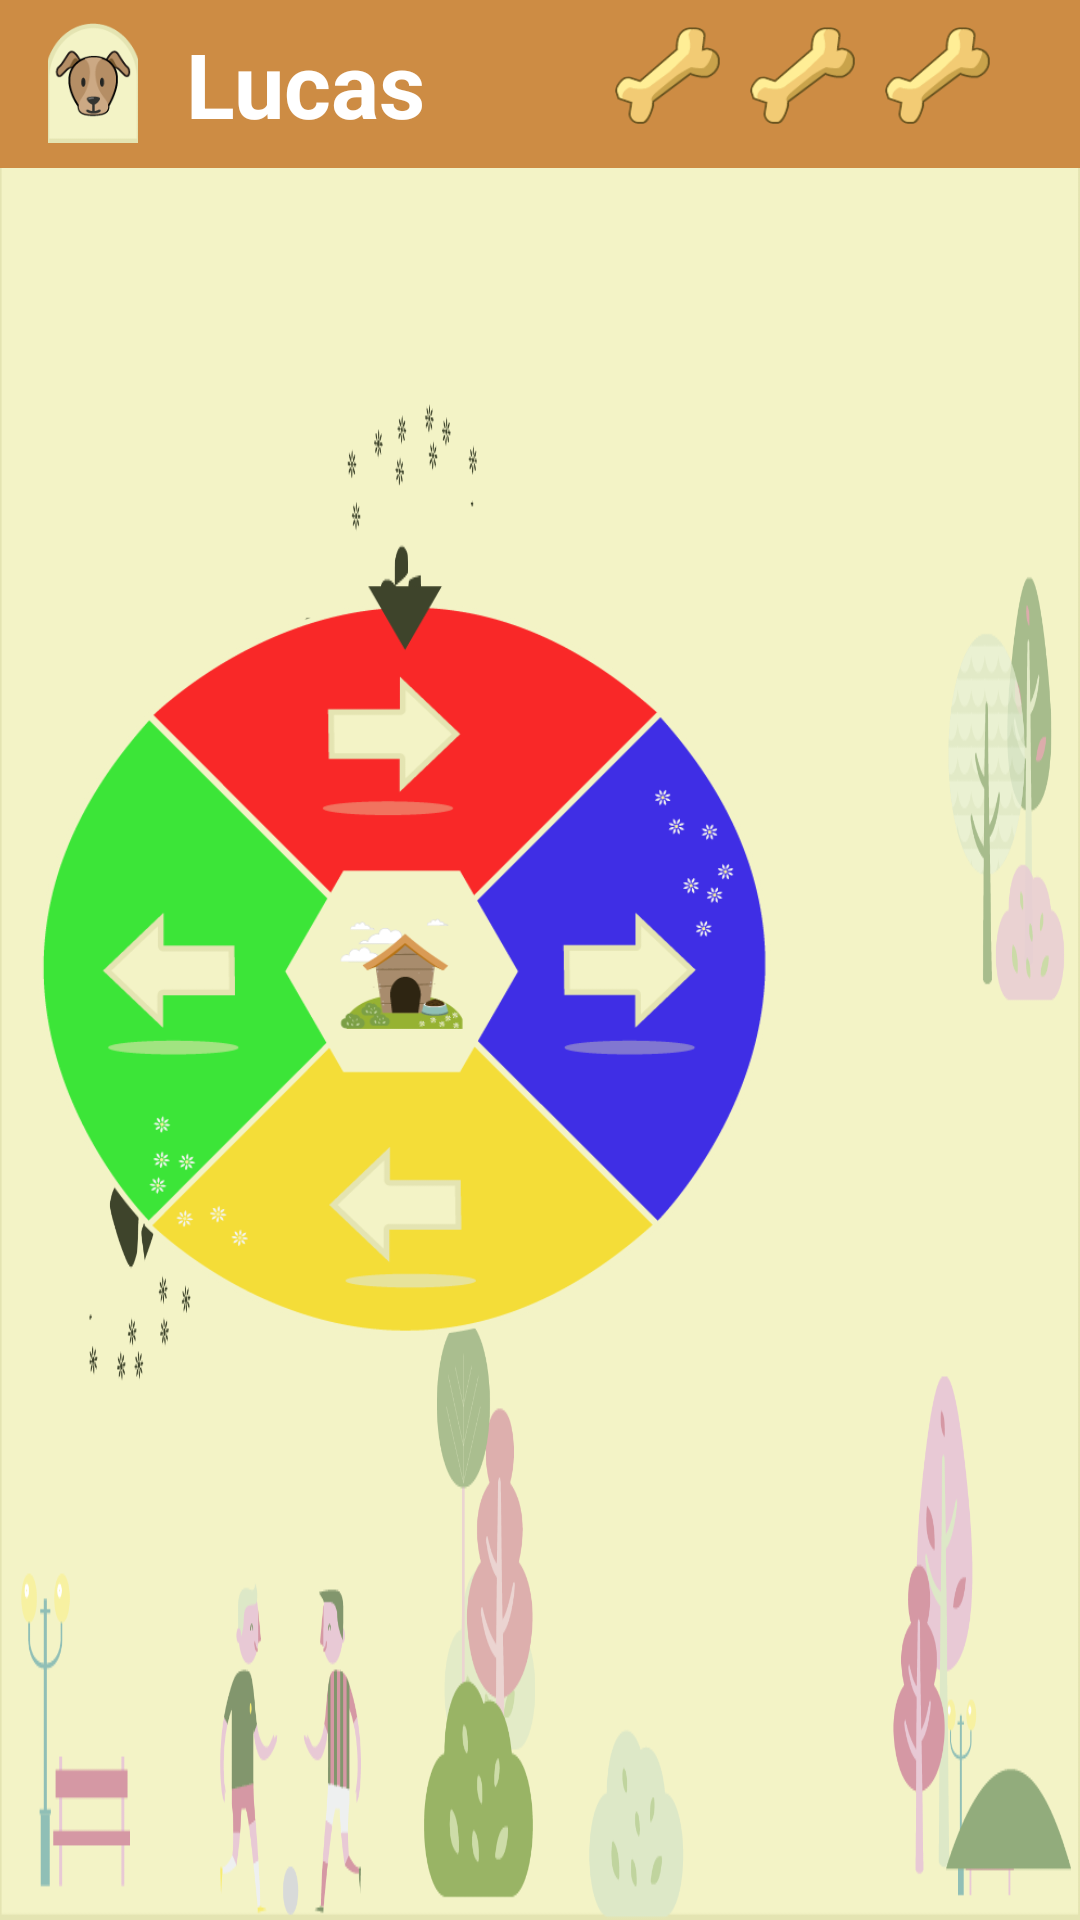

Icons on this 1080w x 1920h Android screen, each with its box as region(x1, y1, x2, y2):
hueso: region(615, 27, 720, 124), region(750, 27, 855, 124), region(885, 27, 990, 124)
perrito: region(48, 23, 138, 143)
